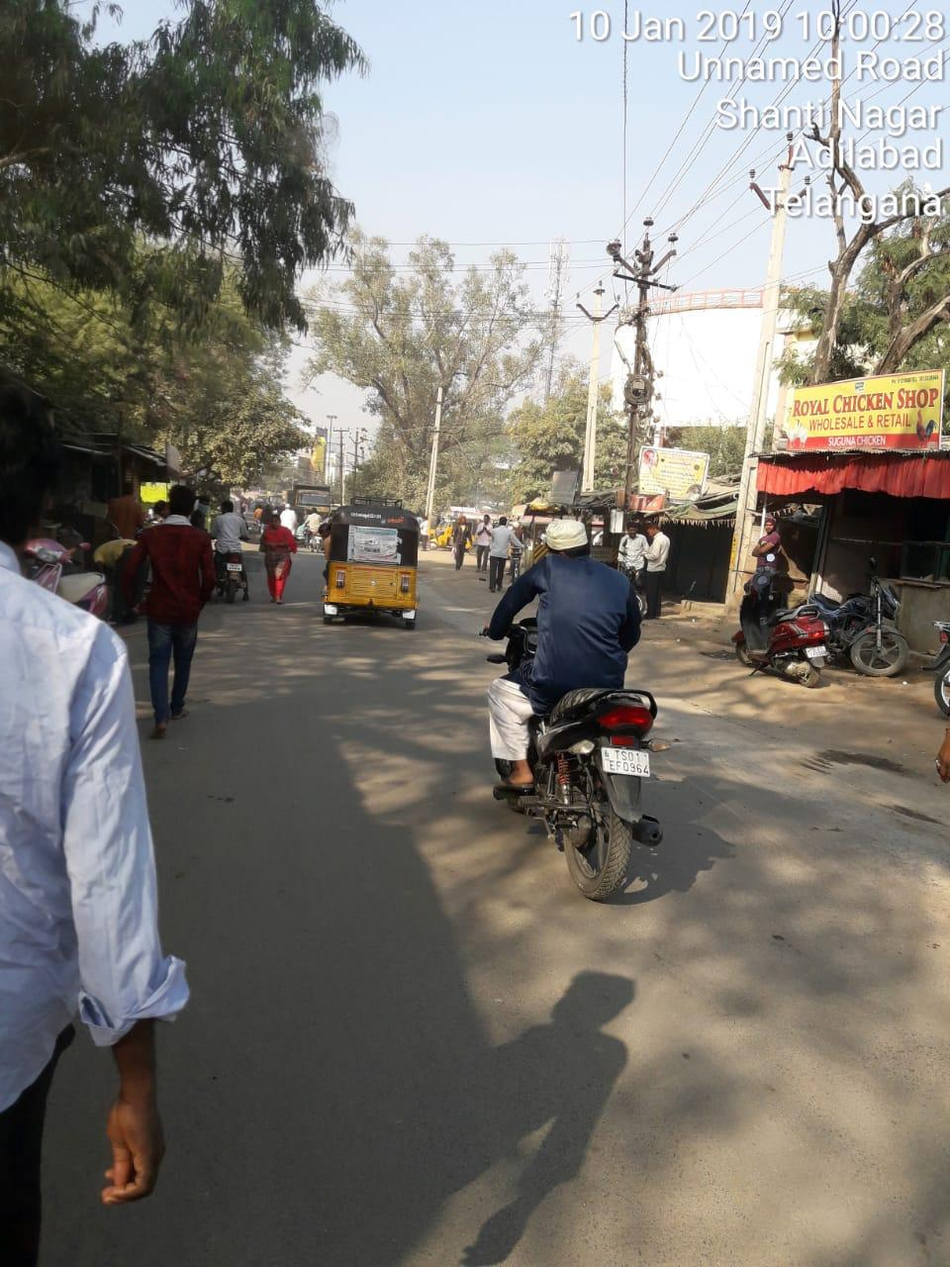plate: (595, 747, 659, 782), (799, 638, 833, 658)
